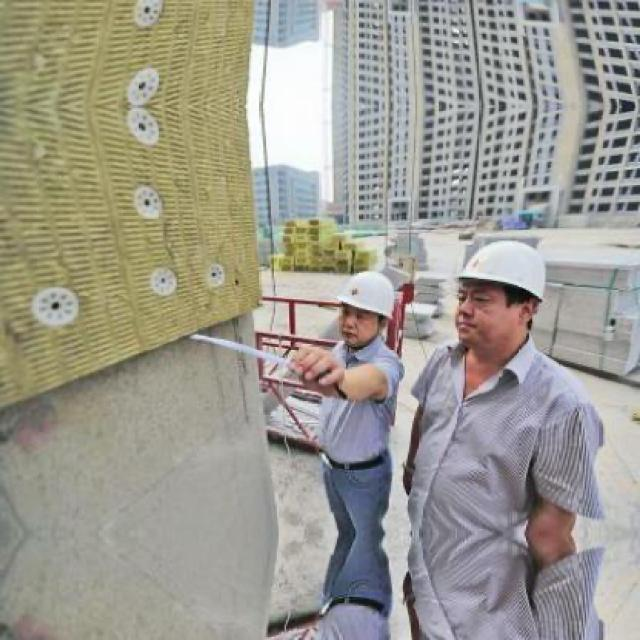con casco: (346, 220, 568, 398), (318, 263, 408, 354)
